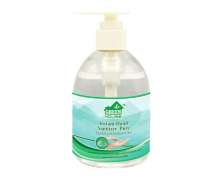Cleaning_solution: (67, 6, 153, 171)
